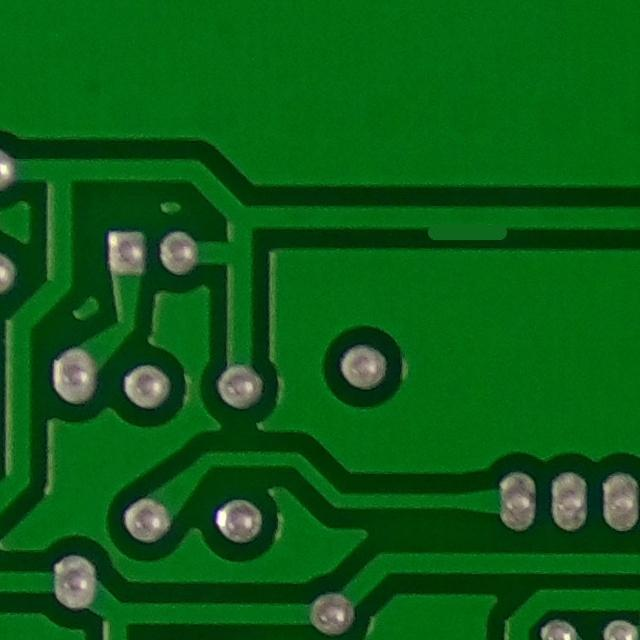spur: (409, 194, 529, 254)
